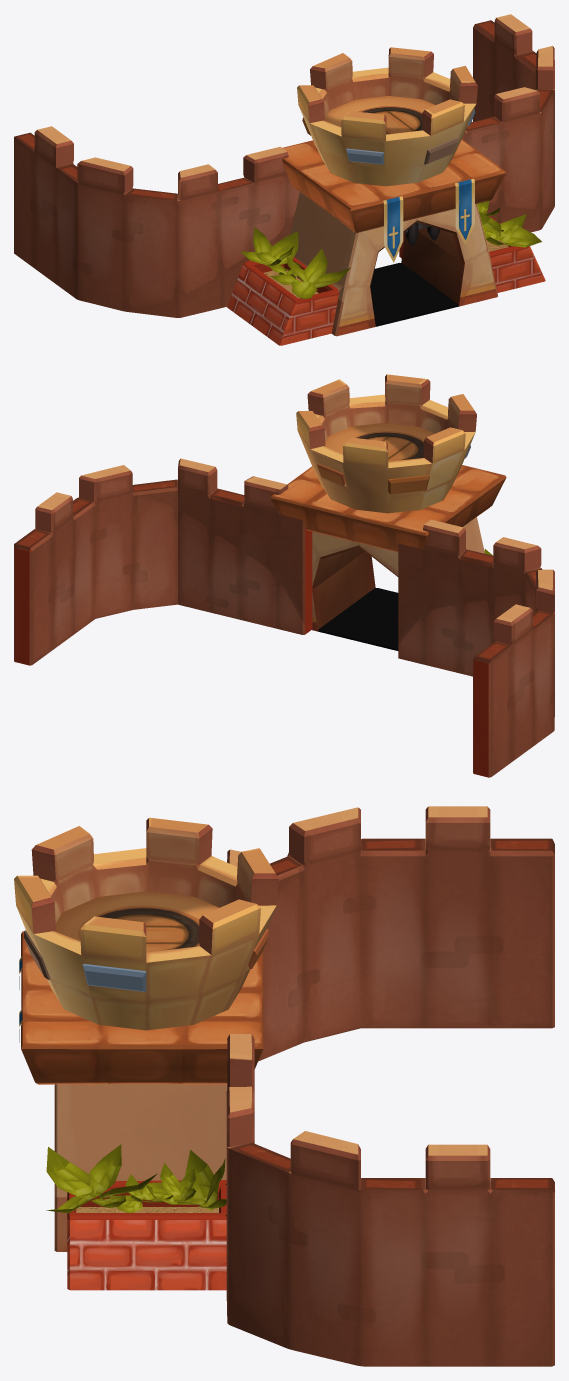
Rendered from Castle@Model.fbx.
The picture shows the model from 3 angles, top to bottom: view 1: azimuth 30°, elevation 25°; view 2: azimuth 150°, elevation 25°; view 3: azimuth 270°, elevation 25°; orthographic projection. The views are drawn at different scales.
Visible parts, largest first — view 1: Castle, Right_Castle_Insignia007, Right_Castle_Insignia008; view 2: Castle; view 3: Castle.
Part boxes in pixels (box(x1,y1,x2,y2)): Castle: box(14, 14, 554, 345); Right_Castle_Insignia007: box(455, 178, 474, 244); Right_Castle_Insignia008: box(383, 196, 403, 262); Castle: box(14, 374, 554, 777); Castle: box(14, 806, 554, 1366).
Size of the model in its own units: 1156 by 488 by 752.
